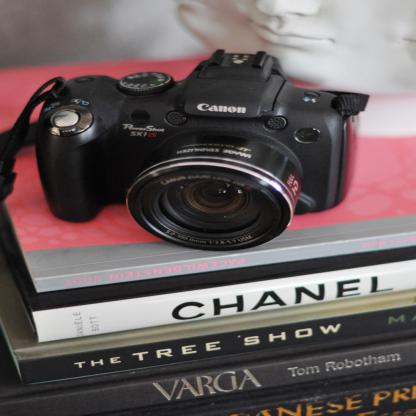Camera: (11, 64, 371, 336)
